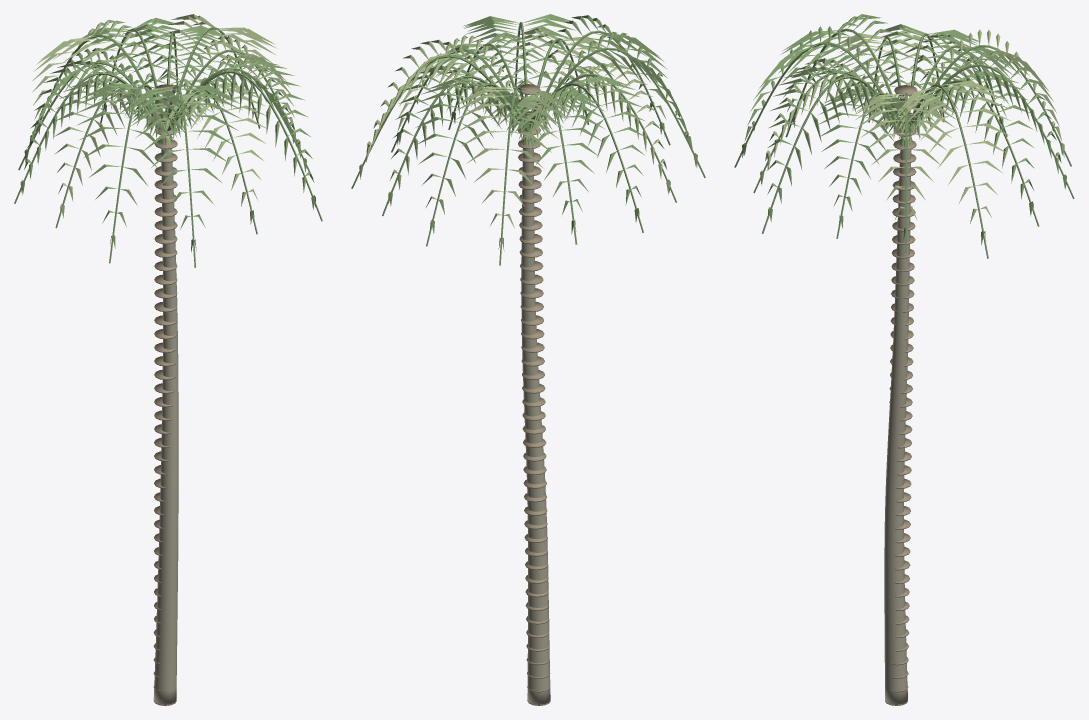
Rendered from grove-specimen-10.glb.
The picture shows the model from 3 angles, left to right: view 1: azimuth 30°, elevation 25°; view 2: azimuth 150°, elevation 25°; view 3: azimuth 270°, elevation 25°; orthographic projection.
Parts seen in each view (by area): view 1: grove-specimen-10; view 2: grove-specimen-10; view 3: grove-specimen-10.
Boxes of the visible parts, x1,y1,x2,y2 form: grove-specimen-10: [14, 14, 322, 705]; grove-specimen-10: [351, 14, 705, 705]; grove-specimen-10: [734, 14, 1074, 705].
Size of the model in its own units: 4.6 by 10.52 by 4.98.
